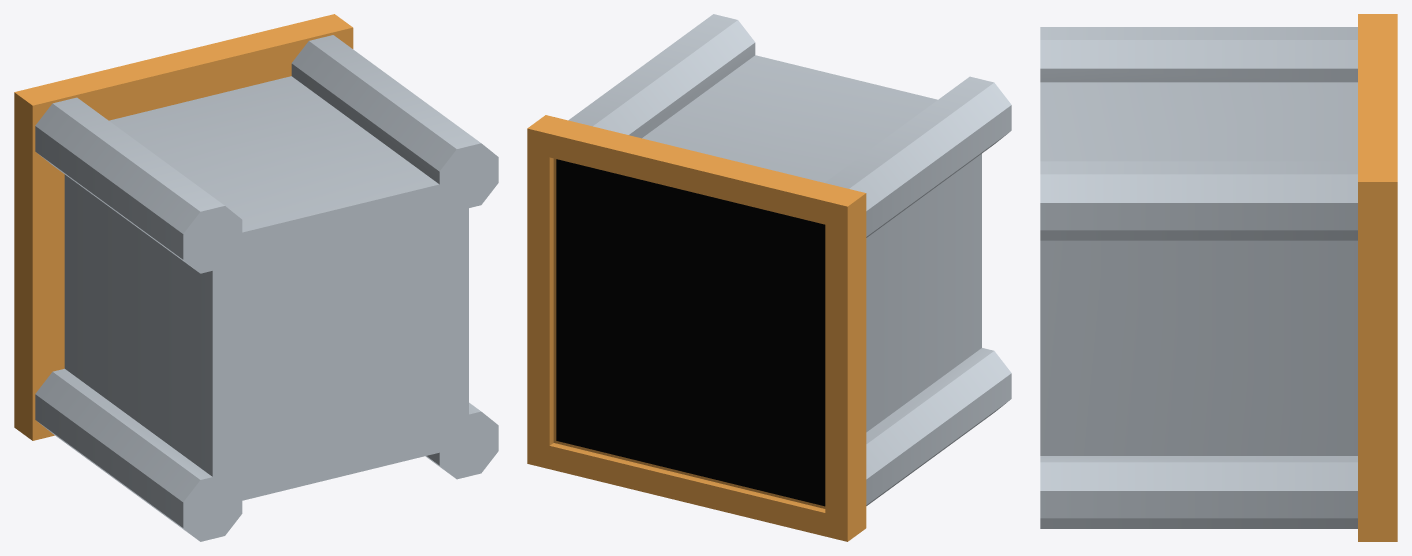
3 renders of one model, left to right at view 1: azimuth 30°, elevation 25°; view 2: azimuth 150°, elevation 25°; view 3: azimuth 270°, elevation 25°, orthographic. The views are drawn at different scales.
Visible parts, largest first — view 1: Part_Body, Part_Frame; view 2: Part_StampFace, Part_Body, Part_Frame; view 3: Part_Body, Part_Frame.
Part boxes in pixels (x1=…): Part_Body: x1=35, y1=35, x2=498, y2=541; Part_Frame: x1=14, y1=14, x2=353, y2=440; Part_StampFace: x1=556, y1=159, x2=825, y2=506; Part_Body: x1=568, y1=14, x2=1011, y2=505; Part_Frame: x1=527, y1=115, x2=866, y2=541; Part_Body: x1=1040, y1=27, x2=1357, y2=528; Part_Frame: x1=1358, y1=14, x2=1397, y2=541.
Size of the model in its own units: 1 by 1 by 0.9.
